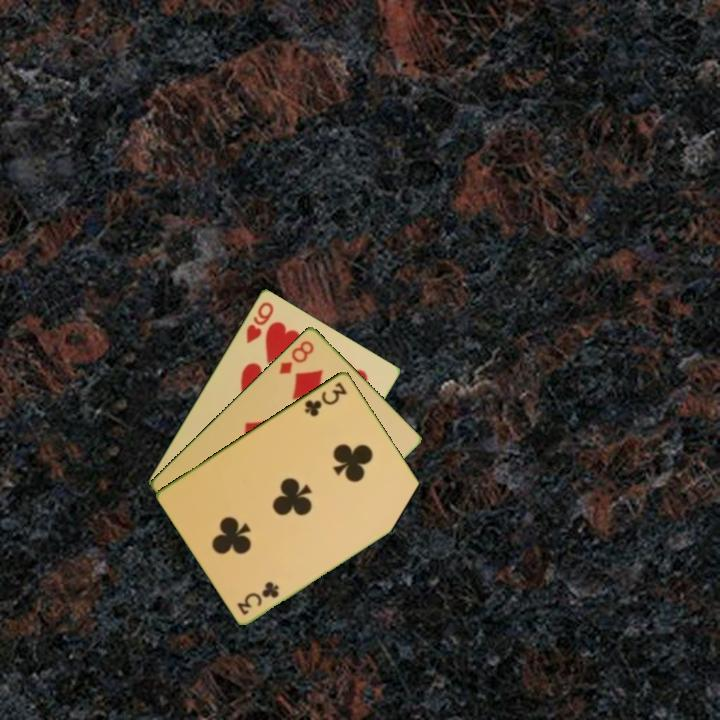3c: (301, 378, 350, 419), (233, 578, 282, 618)
8d: (276, 336, 317, 377)
9h: (242, 298, 277, 346)
